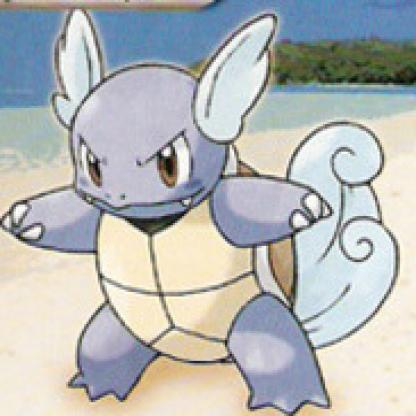Wartortle: (1, 1, 415, 415)
